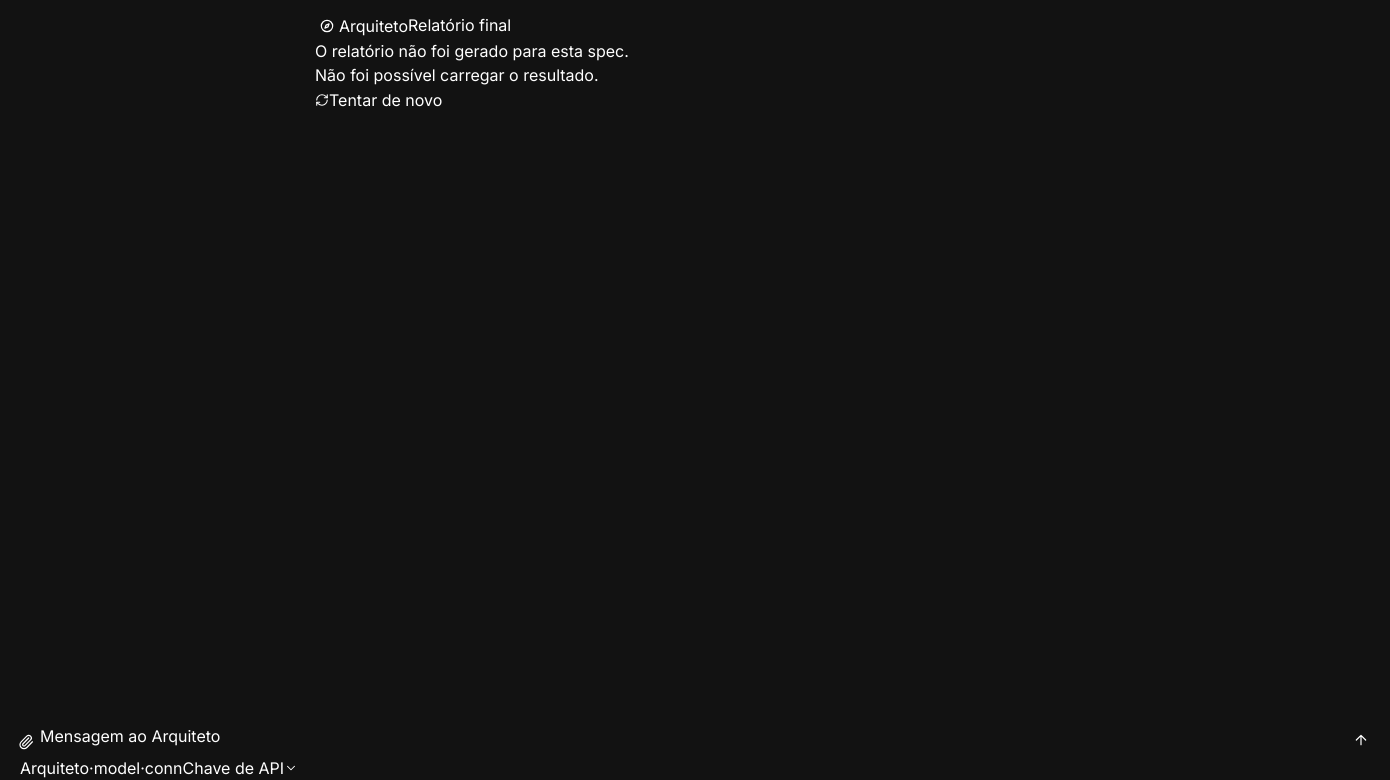
Test case: ResultMessage: falhas › falha do GET mostra cartão discreto e 'Tentar de novo' recarrega sem quebrar a tela
expect the text "Não foi possível carregar o resultado." is shown: met, box top-left (315, 65), bottom-right (598, 85)
Click the button "Tentar de novo": (386,100) top-left (315, 87), bottom-right (1075, 113)
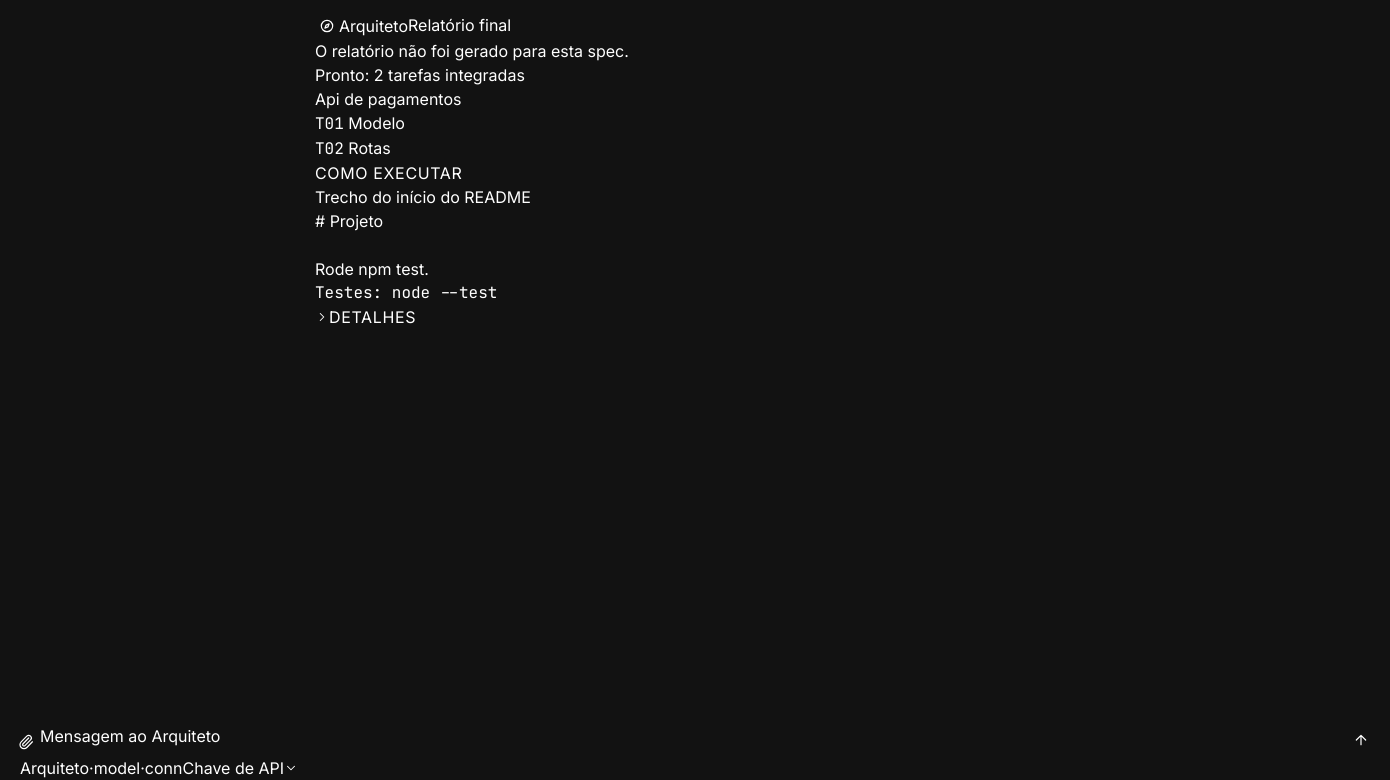
expect the text "Pronto: 2 tarefas integradas" is shown: met, box top-left (315, 65), bottom-right (525, 85)
